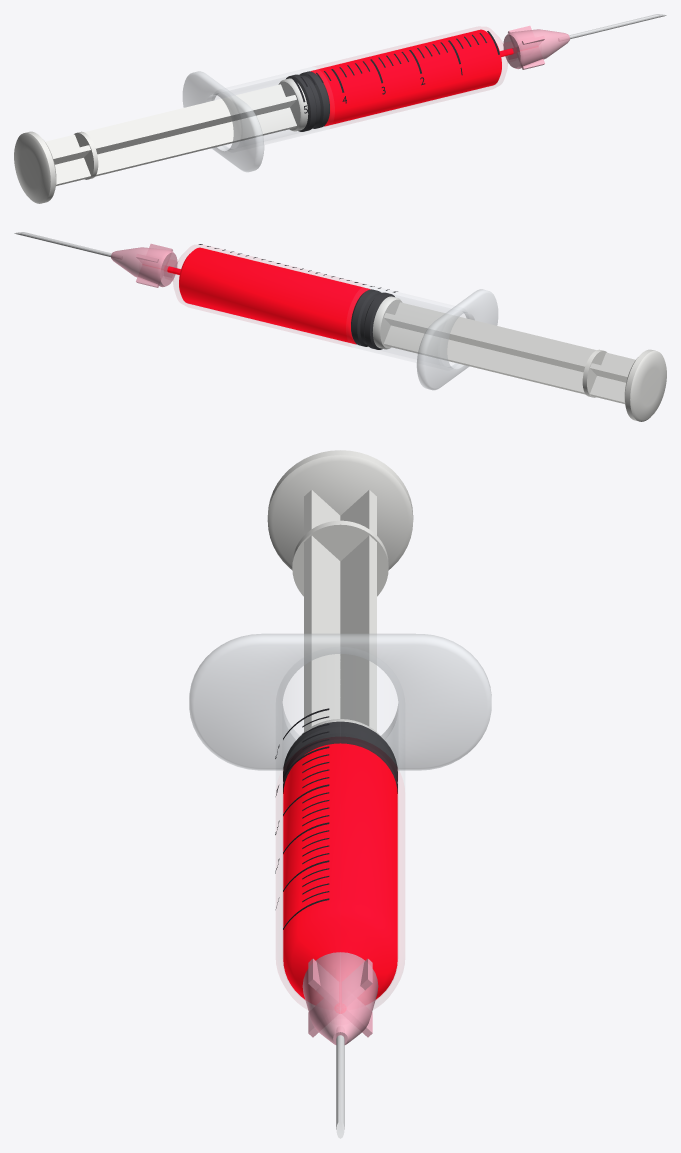
Rendered from seringa_adrenalina.glb.
3 renders of one model, top to bottom at view 1: azimuth 30°, elevation 25°; view 2: azimuth 150°, elevation 25°; view 3: azimuth 270°, elevation 25°, orthographic. The views are drawn at different scales.
Parts seen in each view (by area): view 1: seringa_adrenalina; view 2: seringa_adrenalina; view 3: seringa_adrenalina.
Boxes of the visible parts, x1,y1,x2,y2 form: seringa_adrenalina: (14, 14, 666, 203); seringa_adrenalina: (14, 232, 666, 421); seringa_adrenalina: (189, 450, 491, 1138).
Bounding box in the file's own units: 0.14 × 0.0139 × 0.0288.
